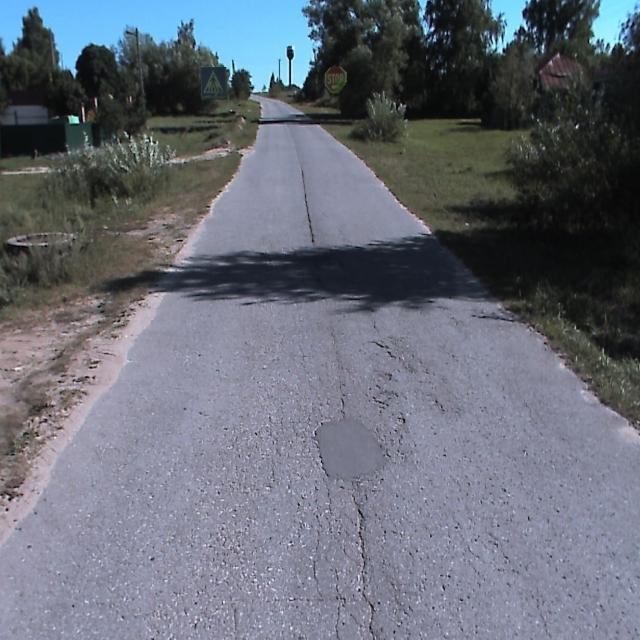road: (0, 101, 639, 639)
